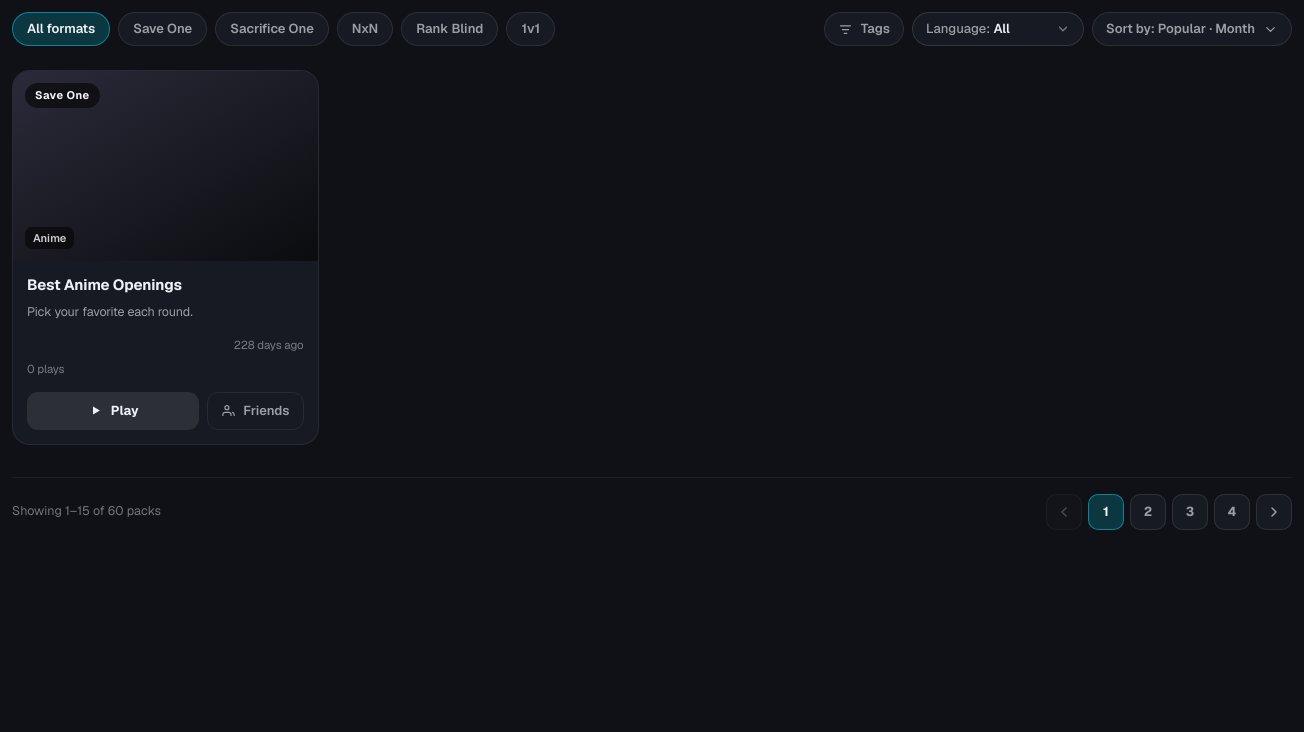
Scenario: HomeFeed › pagination › shows the range for the current page
Expected: the heading "Best Anime Openings" is shown, 27,275 -> 182,294
Expected: the text "Showing 1–15 of 60 packs" is shown, 12,502 -> 161,521
What coordinates should you click on to do the following:
click the button "2"
I would click on:
 (1148, 512)
Its box is 1130,494 -> 1166,530.
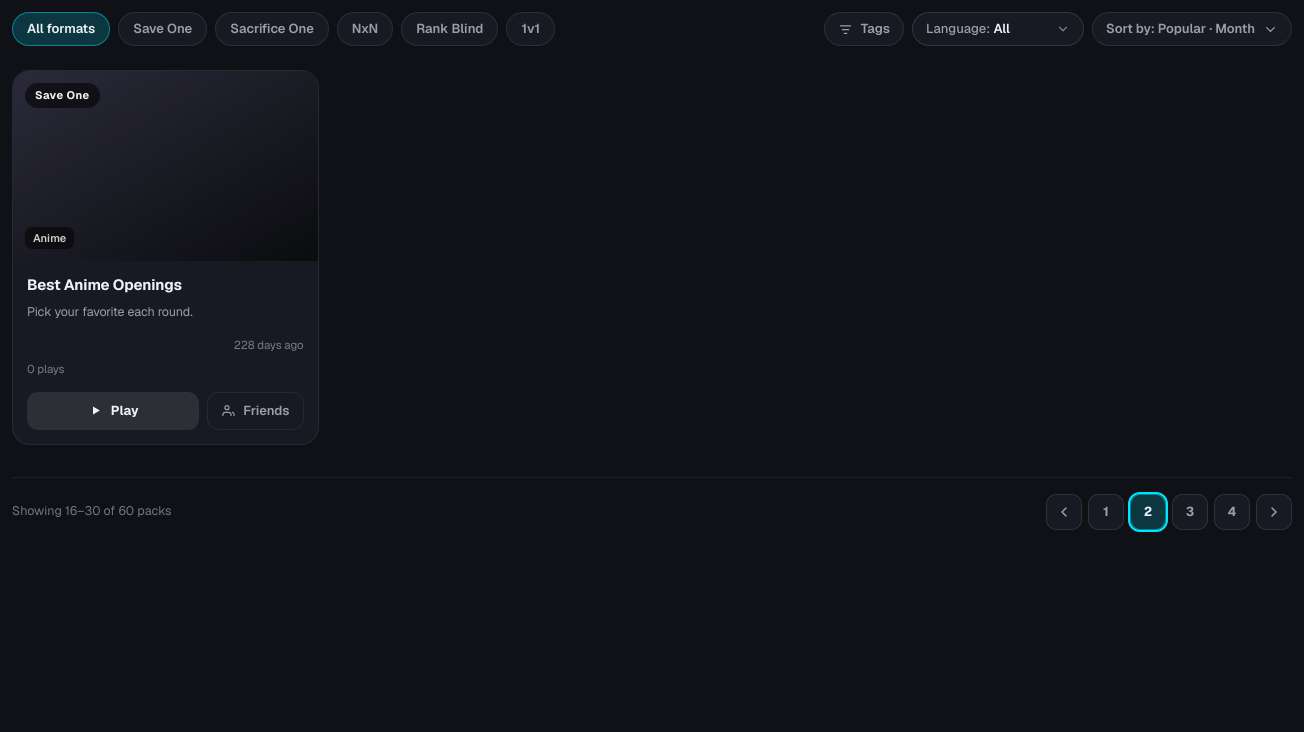
Now the text "Showing 16–30 of 60 packs" is shown, box 12,502 -> 172,521
